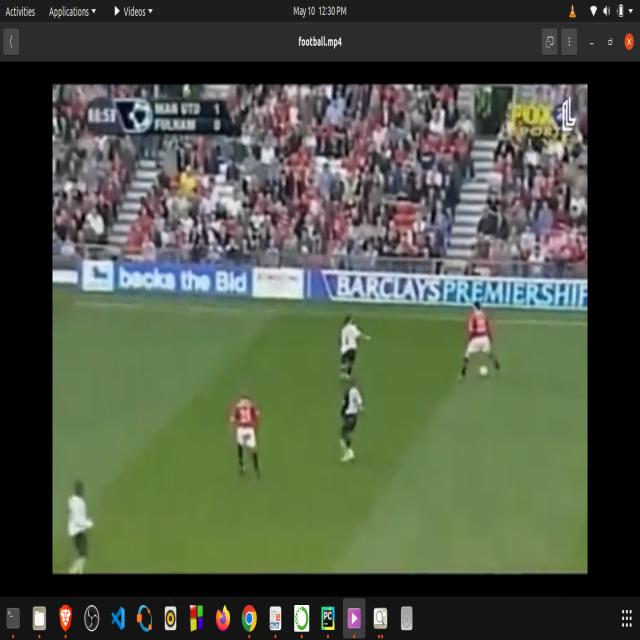Ball: (477, 358, 491, 381)
football-players: (63, 476, 102, 574), (228, 385, 266, 484), (460, 302, 502, 387), (332, 384, 375, 464), (338, 316, 370, 378)
